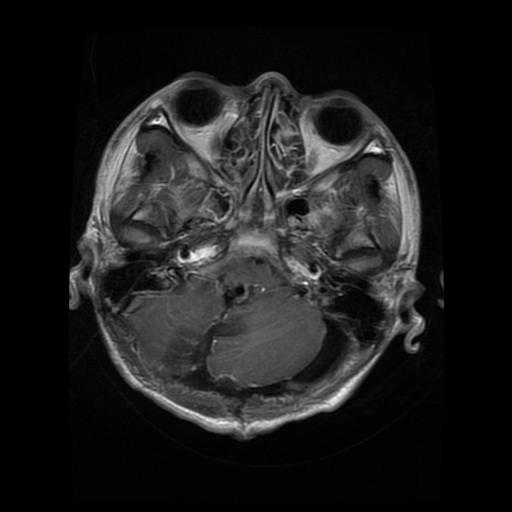Tumour-Glioma: (296, 300, 372, 392)
